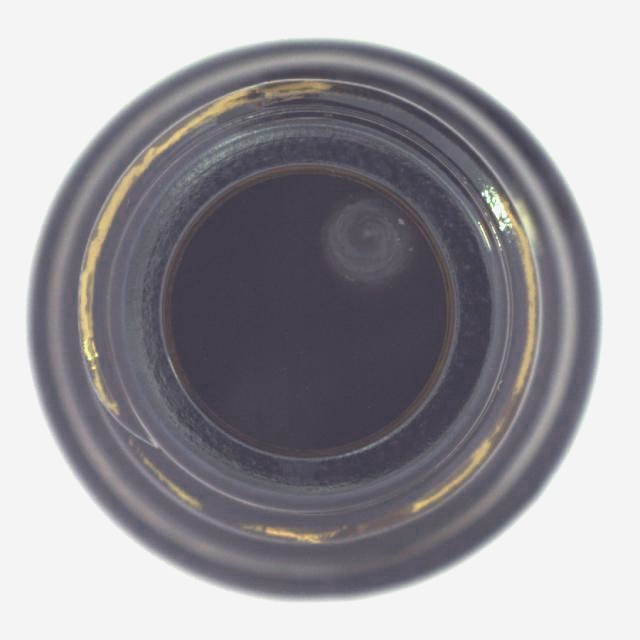bad-contamination: (23, 33, 606, 607)
